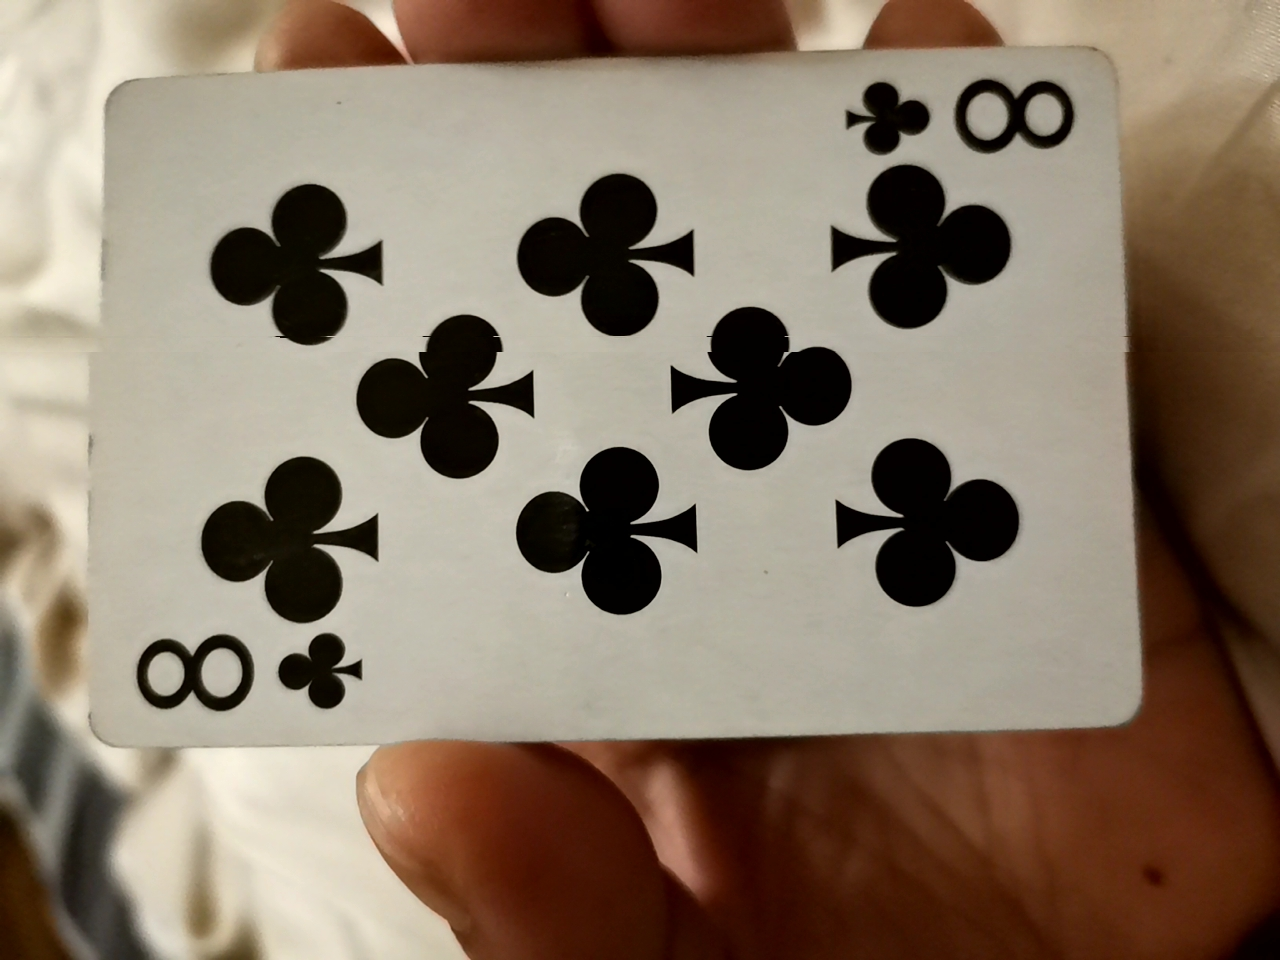mh 8: (38, 48, 1152, 758)
